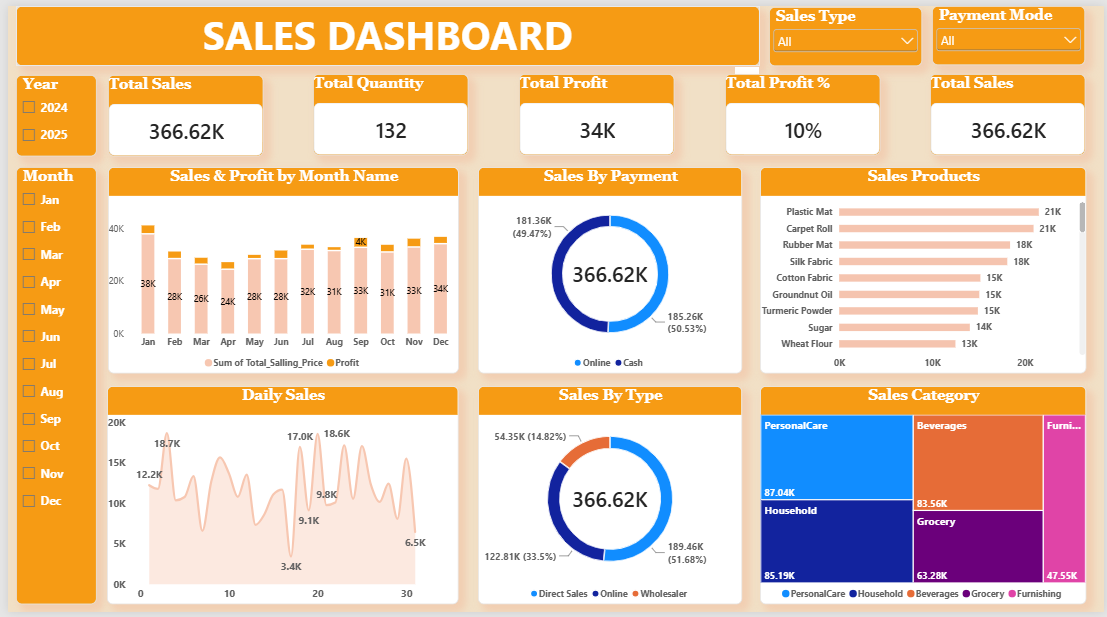

This screenshot's page, from the dashboard's own definition file:
{"tool":"powerbi","page":{"name":"Page 1","canvas":[1480,820],"ordinal":0},"visuals":[{"type":"textbox","box":[10.8,0,1004.8,80.7],"z":0},{"type":"slicer","fields":{"Values":["InputData.Year"]},"box":[10.3,93.1,109,110],"z":1000},{"type":"slicer","fields":{"Values":["InputData.Month Name"]},"box":[10.5,217.4,108.7,590.9],"z":2000},{"type":"slicer","fields":{"Values":["InputData.PAYMENT MODE"]},"box":[1248.9,0,206.8,79.5],"z":3000},{"type":"slicer","fields":{"Values":["InputData.SALE TYPE"]},"box":[1028.9,1.2,206.8,79.5],"z":4000},{"type":"cardVisual","title":"Total Sales","fields":{"Data":["Sum(InputData.Total_Salling_Price)"]},"box":[134.9,92.8,210,110],"z":5000},{"type":"cardVisual","title":"Total Quantity","fields":{"Data":["Sum(InputData.QUANTITY)"]},"box":[412.8,92.5,210,110],"z":6000},{"type":"cardVisual","title":"Total Profit","fields":{"Data":["InputData.Profit"]},"box":[690.6,92.5,210,110],"z":7000},{"type":"cardVisual","title":"Total Profit %","fields":{"Data":["InputData.Profit %"]},"box":[968.4,92.5,210,110],"z":8000},{"type":"cardVisual","title":"Total Sales","fields":{"Data":["Sum(InputData.Total_Salling_Price)"]},"box":[1246.3,92.5,210,110],"z":9000},{"type":"columnChart","title":"Sales & Profit by Month Name","fields":{"Category":["InputData.Month Name"],"Y":["Sum(InputData.Total_Salling_Price)","InputData.Profit"]},"box":[134.6,217.3,474.1,279],"z":10000},{"type":"areaChart","title":"Daily Sales","fields":{"Category":["InputData.Day"],"Y":["Sum(InputData.Total_Salling_Price)"]},"box":[133.3,513.6,475.3,295.1],"z":11000},{"type":"clusteredBarChart","title":"Sales Products","fields":{"Category":["InputData.MasterData.PRODUCT"],"Y":["Sum(InputData.Total_Salling_Price)"]},"box":[1016,217.3,440.7,279],"z":12000},{"type":"treemap","title":"Sales Category","fields":{"Group":["InputData.MasterData.CATEGORY"],"Values":["Sum(InputData.Total_Salling_Price)"]},"box":[1016,513.6,440.7,295.1],"z":13000},{"type":"donutChart","title":"Sales By Type","fields":{"Category":["InputData.SALE TYPE"],"Y":["Sum(InputData.Total_Salling_Price)"]},"box":[635.8,513.6,356.8,295.1],"z":14000},{"type":"donutChart","title":"Sales By Payment","fields":{"Category":["InputData.PAYMENT MODE"],"Y":["Sum(InputData.Total_Salling_Price)"]},"box":[635.8,217.3,356.8,279],"z":14001}]}

Visuals, with their boxes in screenshot pixels (x1, y1, x2, y2), scaled from the page's 1480x820 canvas onto the 1107x617 screenshot:
textbox: box(8, 0, 760, 61)
slicer - InputData.Year: box(8, 70, 89, 153)
slicer - InputData.Month Name: box(8, 164, 89, 608)
slicer - InputData.PAYMENT MODE: box(934, 0, 1089, 60)
slicer - InputData.SALE TYPE: box(770, 1, 924, 61)
"Total Sales" cardVisual: box(101, 70, 258, 153)
"Total Quantity" cardVisual: box(309, 70, 466, 152)
"Total Profit" cardVisual: box(517, 70, 674, 152)
"Total Profit %" cardVisual: box(724, 70, 881, 152)
"Total Sales" cardVisual: box(932, 70, 1089, 152)
"Sales & Profit by Month Name" columnChart: box(101, 164, 455, 373)
"Daily Sales" areaChart: box(100, 386, 455, 608)
"Sales Products" clusteredBarChart: box(760, 164, 1090, 373)
"Sales Category" treemap: box(760, 386, 1090, 608)
"Sales By Type" donutChart: box(476, 386, 742, 608)
"Sales By Payment" donutChart: box(476, 164, 742, 373)
